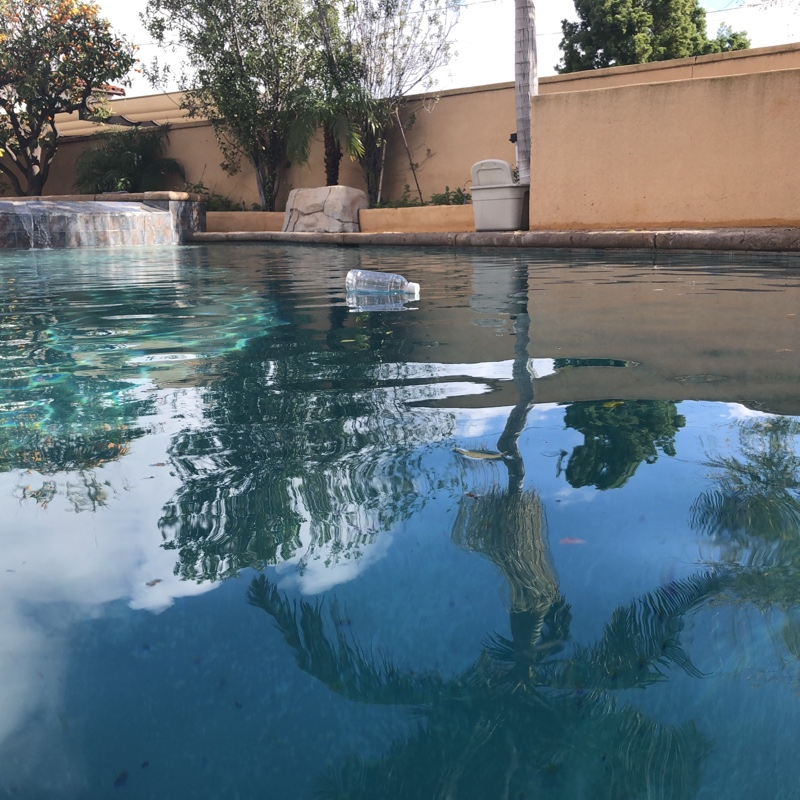Plastic Bottle: (343, 266, 421, 297)
